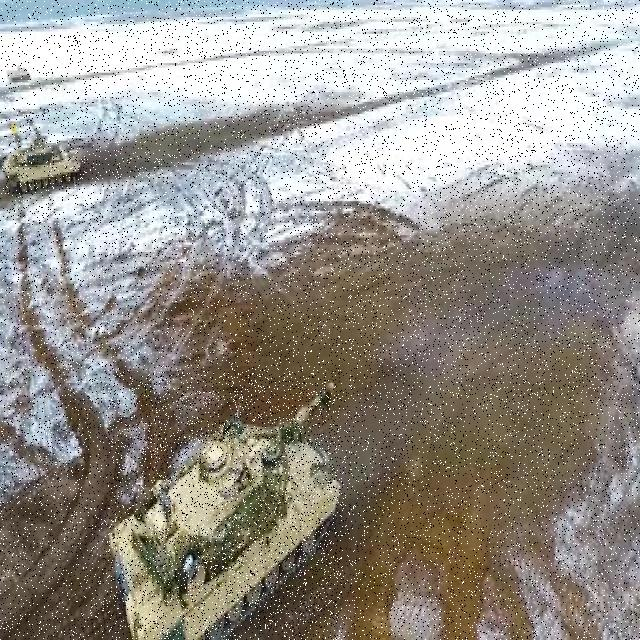MIL_MBT: (108, 373, 342, 640), (2, 131, 84, 194)
